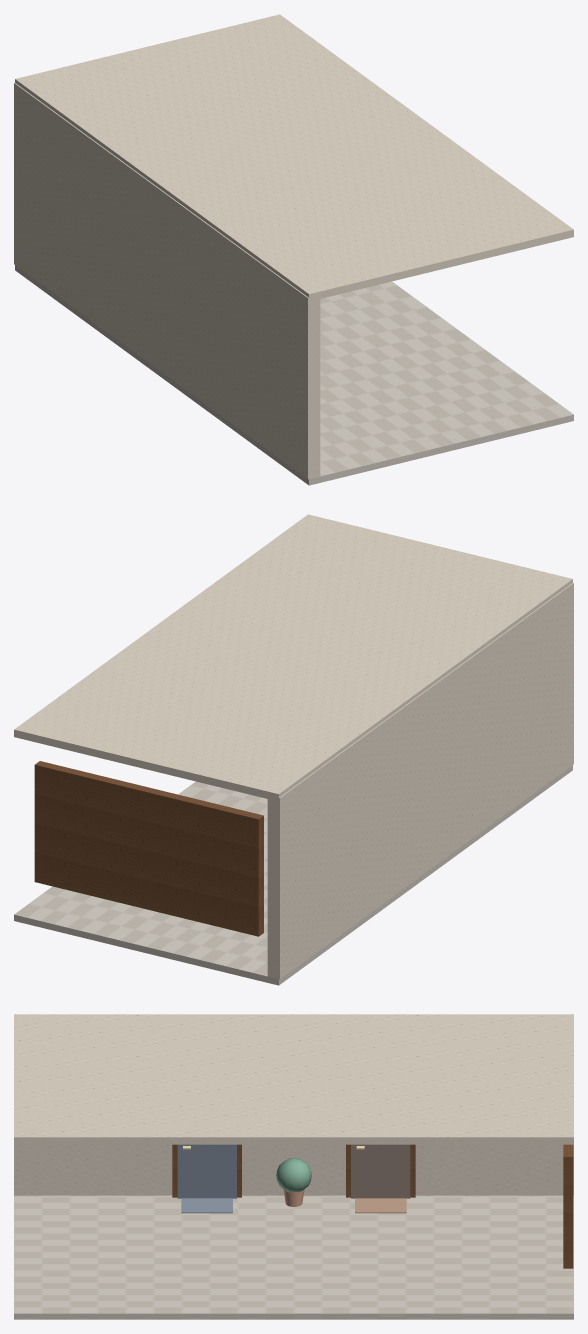
File: ch5_env_apartment_corridor.glb
The picture shows the model from 3 angles, top to bottom: view 1: azimuth 30°, elevation 25°; view 2: azimuth 150°, elevation 25°; view 3: azimuth 270°, elevation 25°; orthographic projection. The views are drawn at different scales.
Visible parts, largest first — view 1: ch5_env_apartment_corridor; view 2: ch5_env_apartment_corridor; view 3: ch5_env_apartment_corridor, Door_Unit_302, Door_Unit_301.
Part boxes in pixels (x1,y1,x2,y2): ch5_env_apartment_corridor: (14,14,573,485); ch5_env_apartment_corridor: (14,514,573,985); ch5_env_apartment_corridor: (14,1014,573,1319); Door_Unit_302: (351,1144,410,1198); Door_Unit_301: (177,1144,236,1198).
Size of the model in its own units: 5.22 by 3.59 by 10.
13 materials, 5 textured.
